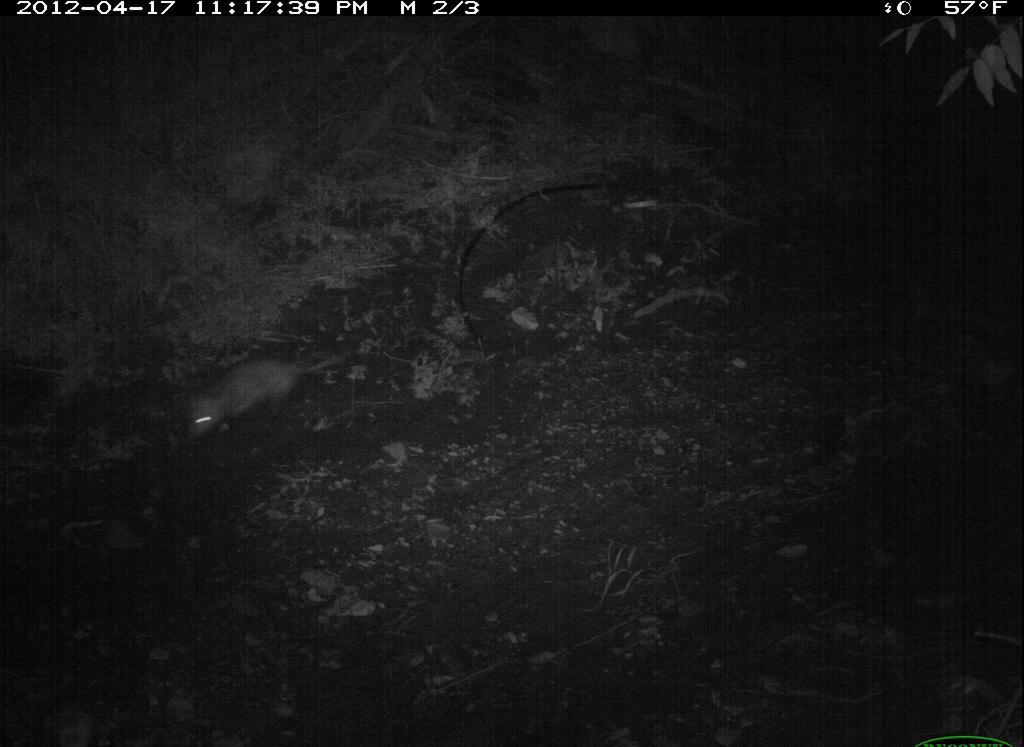opossum: (182, 344, 370, 445)
